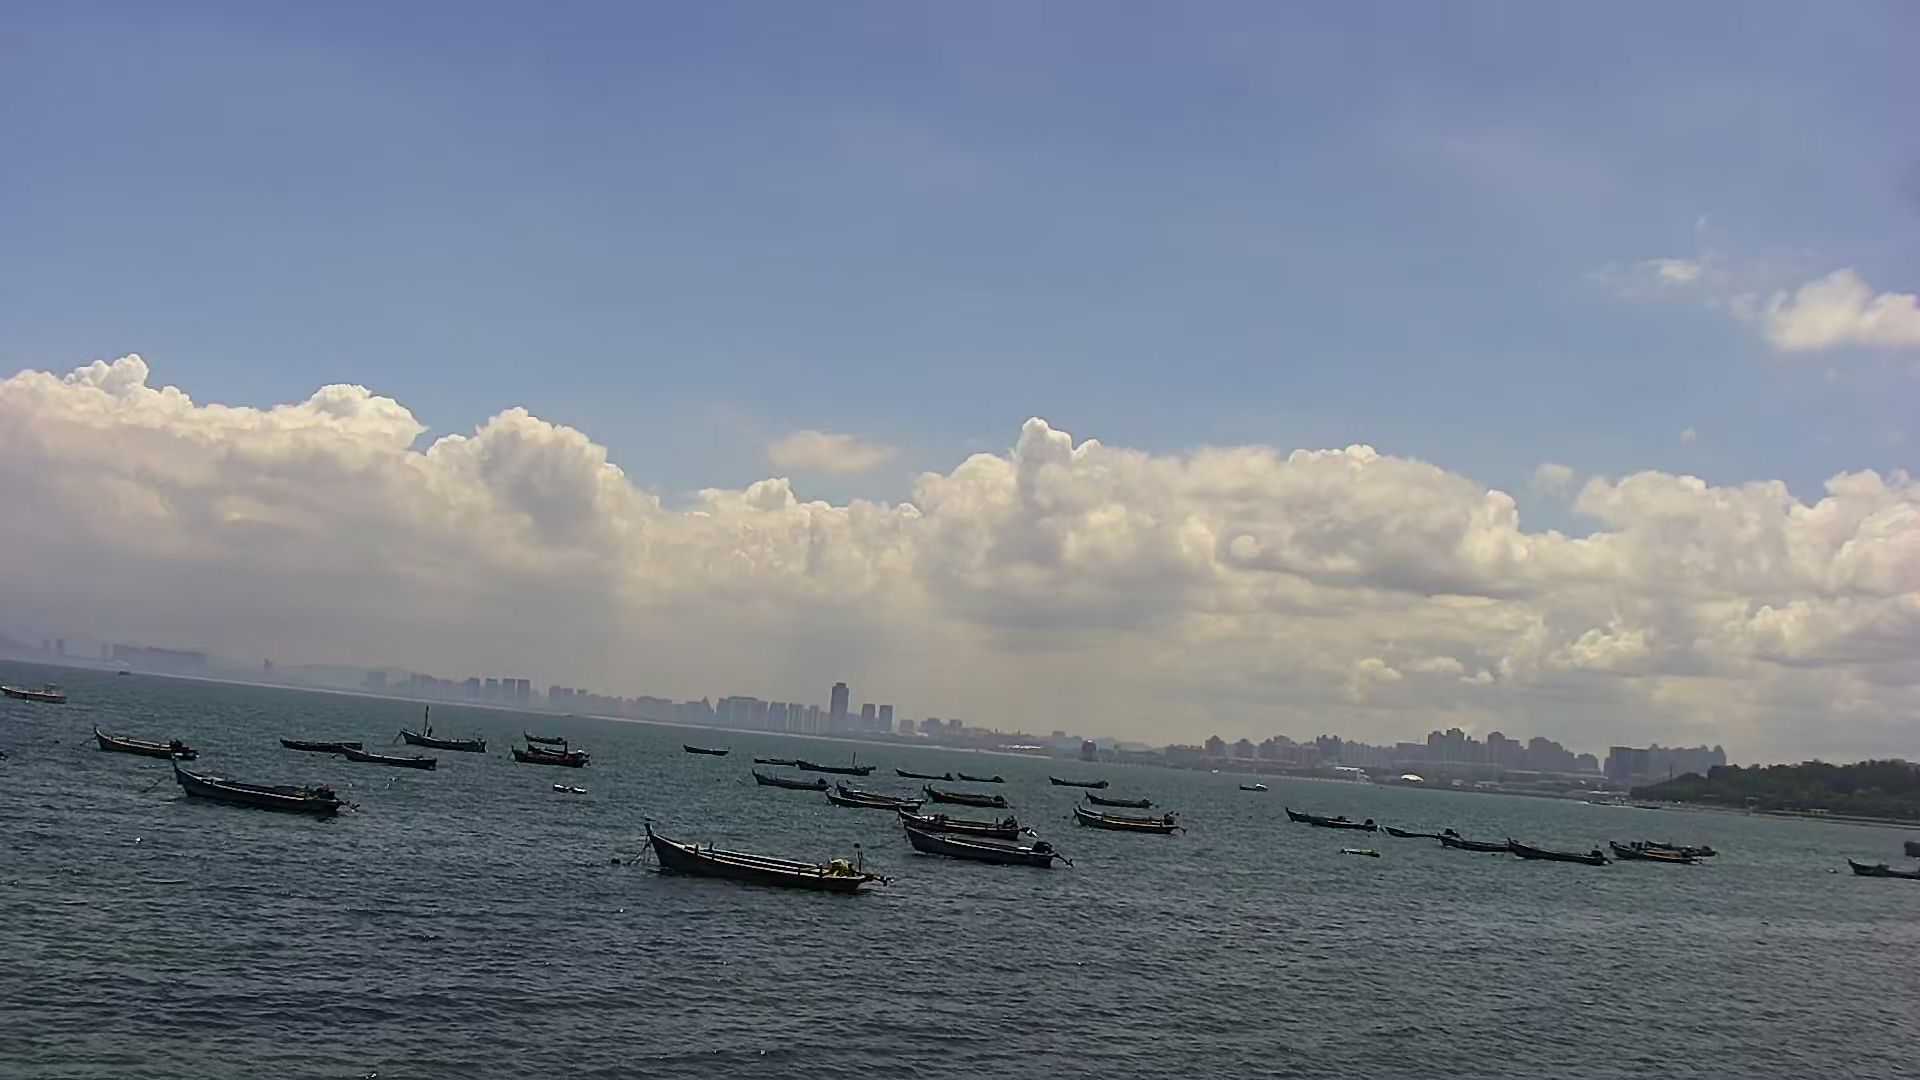boat: (626, 816, 874, 901), (164, 760, 361, 827), (890, 822, 1083, 884), (889, 800, 1030, 844), (389, 699, 492, 758), (1068, 799, 1199, 844), (84, 717, 208, 760), (1610, 827, 1716, 876), (1509, 833, 1619, 872), (265, 721, 368, 762), (349, 746, 458, 785), (793, 744, 882, 783), (502, 737, 603, 771), (1437, 824, 1523, 862), (918, 777, 1017, 808), (1, 669, 69, 715), (1844, 849, 1920, 887), (1080, 785, 1171, 816), (742, 764, 829, 796), (824, 783, 916, 810), (1044, 760, 1117, 793), (1375, 814, 1443, 847), (1311, 808, 1383, 837), (1283, 796, 1352, 827), (676, 733, 740, 762), (516, 719, 580, 744), (545, 771, 593, 802), (893, 762, 952, 785), (957, 764, 1013, 787), (1226, 781, 1274, 794)
